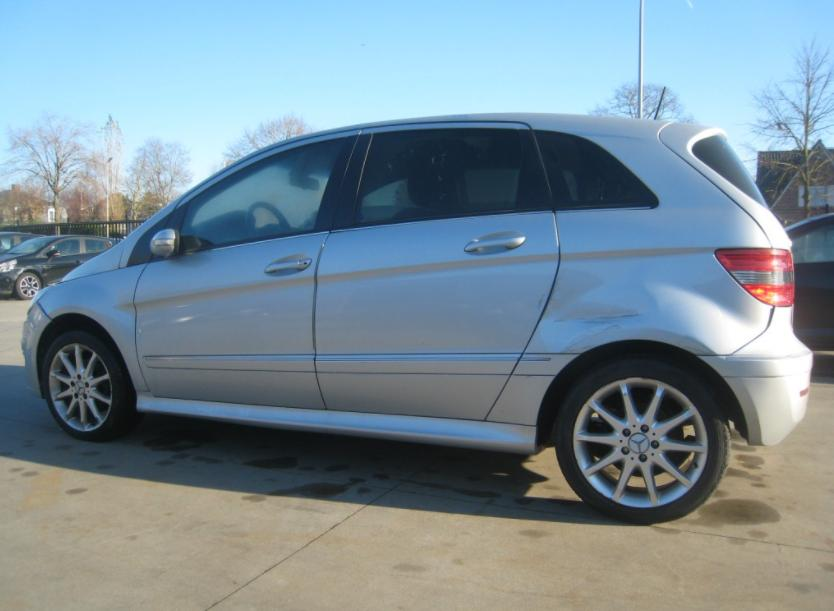Back-bumper: (701, 307, 812, 446)
Back-door: (314, 128, 560, 421)
Back-wheel: (556, 362, 732, 521)
Back-window: (359, 134, 511, 220), (534, 131, 658, 212)
Back-windshield: (692, 136, 769, 208)
Fender: (38, 265, 152, 397)
Front-bumper: (20, 300, 49, 397)
Front-door: (134, 135, 358, 409)
Front-wheel: (40, 331, 143, 441)
Front-window: (177, 137, 344, 253), (126, 203, 186, 267)
Headlight: (29, 288, 48, 308)
Hood: (62, 240, 124, 281)
Mirror: (151, 230, 178, 256)
Quarter-panel: (484, 197, 772, 421)
Rocker-panel: (134, 396, 532, 449)
Roof: (279, 112, 677, 144)
Tail-light: (715, 248, 793, 305)
Trunk: (658, 123, 794, 249)
